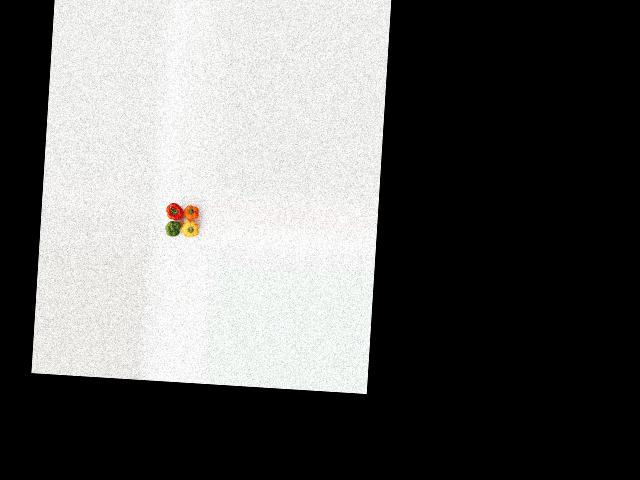bell_pepper: (163, 216, 182, 241)
